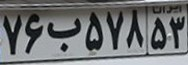character: (45, 10, 85, 55), (1, 11, 23, 58), (23, 11, 45, 58), (83, 10, 105, 56), (104, 8, 126, 54), (125, 8, 146, 54), (168, 14, 188, 50), (149, 14, 168, 51)
